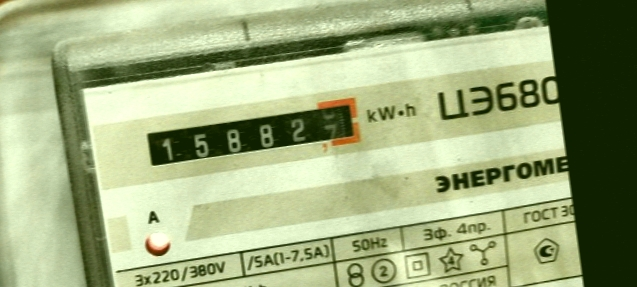1: (158, 135, 175, 165)
2: (288, 117, 307, 147)
5: (190, 132, 211, 161)
7: (321, 122, 339, 141)
8: (222, 127, 242, 157), (256, 122, 275, 152)
screen: (130, 90, 372, 182)
